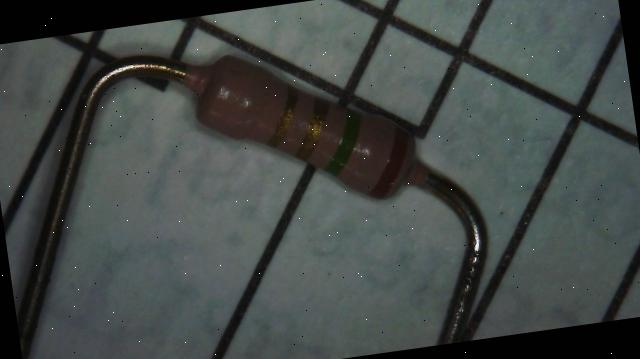brown: (362, 130, 416, 198)
gold: (260, 85, 304, 147), (292, 98, 336, 159)
green: (317, 106, 368, 177)
resistor: (161, 30, 446, 236)
